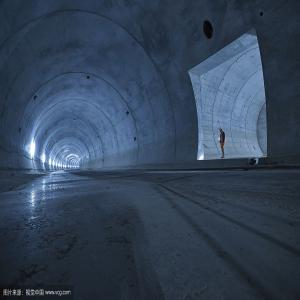white: (220, 128, 223, 134)
